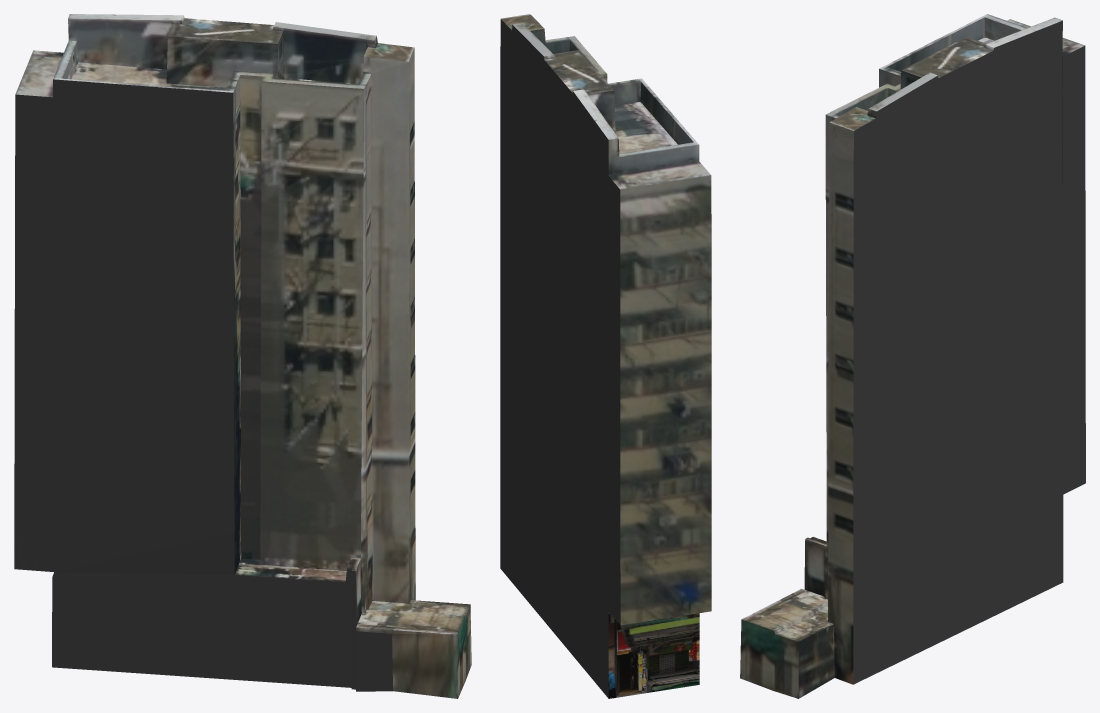
Rendered from input.glb.
The picture shows the model from 3 angles, left to right: view 1: azimuth 30°, elevation 25°; view 2: azimuth 150°, elevation 25°; view 3: azimuth 270°, elevation 25°; orthographic projection. The views are drawn at different scales.
Parts seen in each view (by area): view 1: B346922109101063A0; view 2: B346922109101063A0; view 3: B346922109101063A0.
Boxes of the visible parts, x1,y1,x2,y2 form: B346922109101063A0: (14, 14, 471, 698); B346922109101063A0: (500, 14, 711, 698); B346922109101063A0: (740, 14, 1085, 698).
Size of the model in its own units: 18.45 by 31.8 by 17.48.
Materials: 1 (1 with a texture image).
